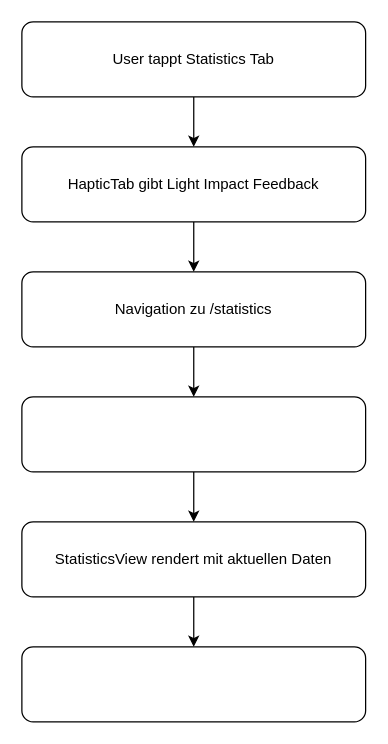
This 388x744 diagram has some shape labels left out. Here are the shapes that lost their labels. From the top down, the centre of each, then its label:
At pixel 193 434: "StatisticsScreen holt gameViewModel aus Context".
At pixel 193 684: "Gleiche ViewModel-Instanz wie im Game Tab".
